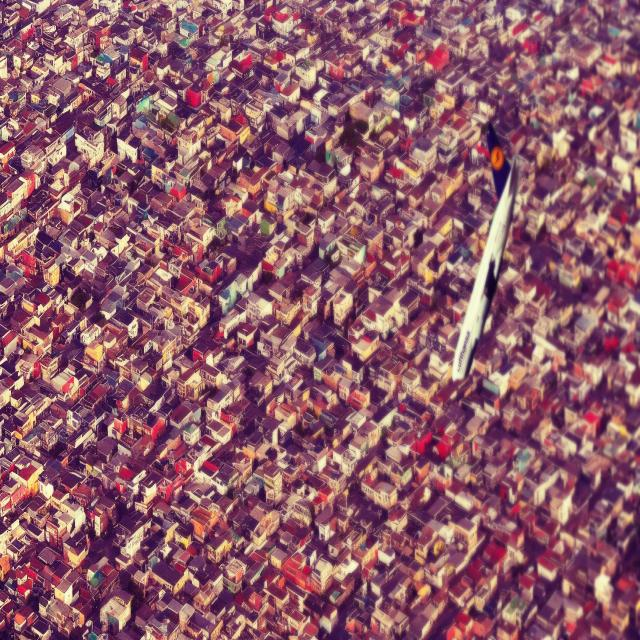airplane: (451, 124, 520, 382)
